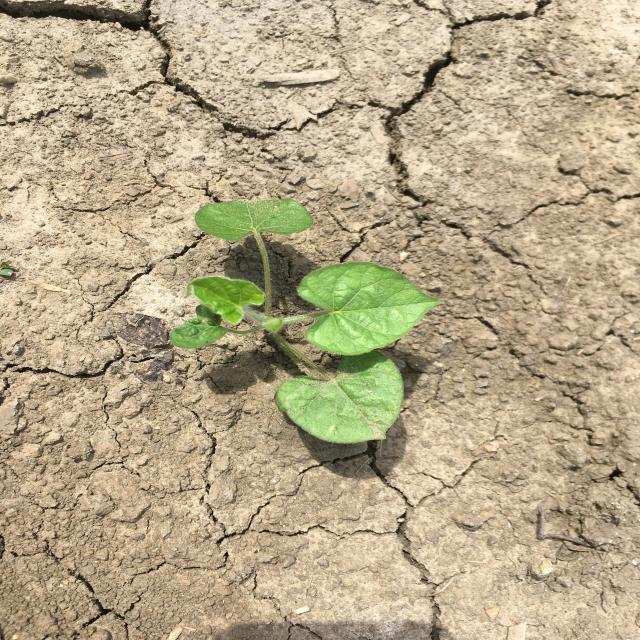MorningGlory: (170, 198, 445, 444)
